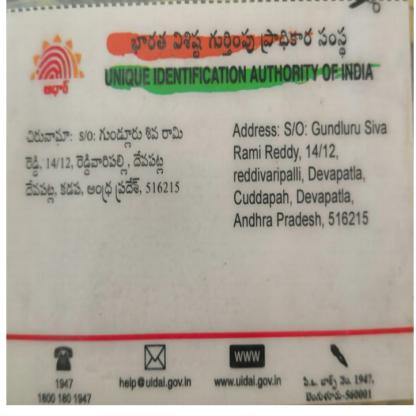aadhaar_card: (2, 0, 415, 415)
